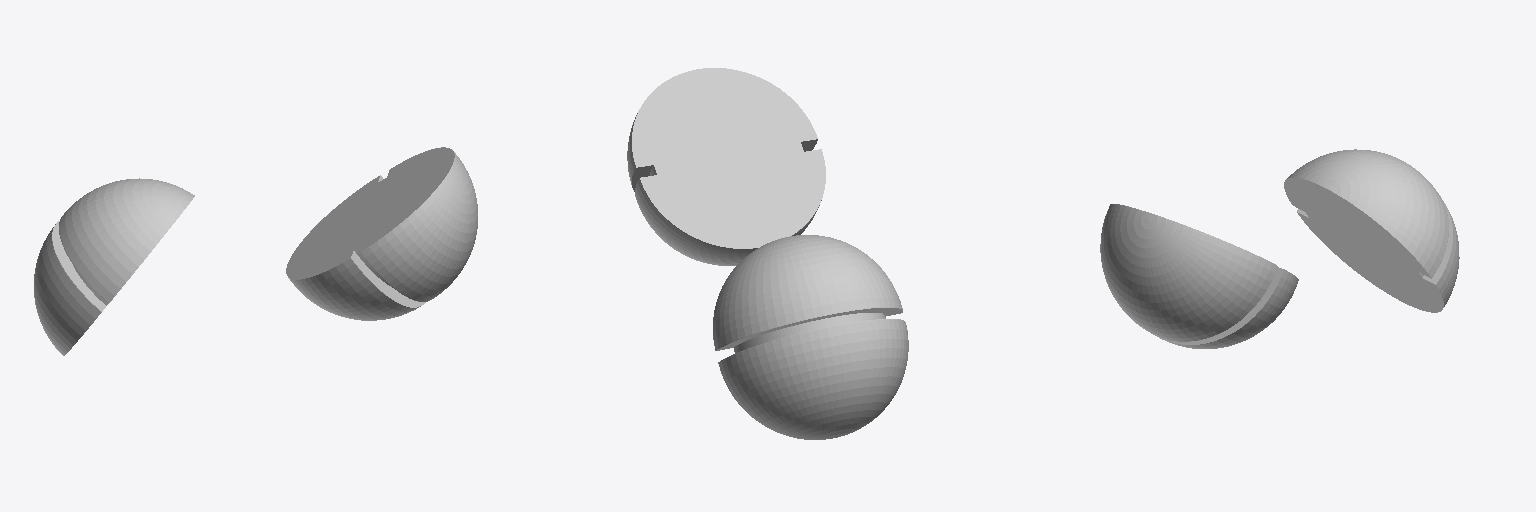
File: Drone166_000013.obj
The picture shows the model from 3 angles: view 1: azimuth 30°, elevation 25°; view 2: azimuth 150°, elevation 25°; view 3: azimuth 270°, elevation 25°; orthographic projection.
Parts seen in each view (by area): view 1: Sphere.001_Sphere.005, Sphere.000_Sphere.004; view 2: Sphere.000_Sphere.004, Sphere.001_Sphere.005; view 3: Sphere.001_Sphere.005, Sphere.000_Sphere.004.
Boxes of the visible parts, box(x1,y1,x2,y2) form: Sphere.001_Sphere.005: box(286, 147, 477, 320); Sphere.000_Sphere.004: box(34, 178, 194, 355); Sphere.000_Sphere.004: box(713, 235, 908, 439); Sphere.001_Sphere.005: box(627, 68, 825, 265); Sphere.001_Sphere.005: box(1100, 204, 1298, 348); Sphere.000_Sphere.004: box(1284, 149, 1459, 312).
Size of the model in its own units: 3.97 by 2.42 by 3.66.